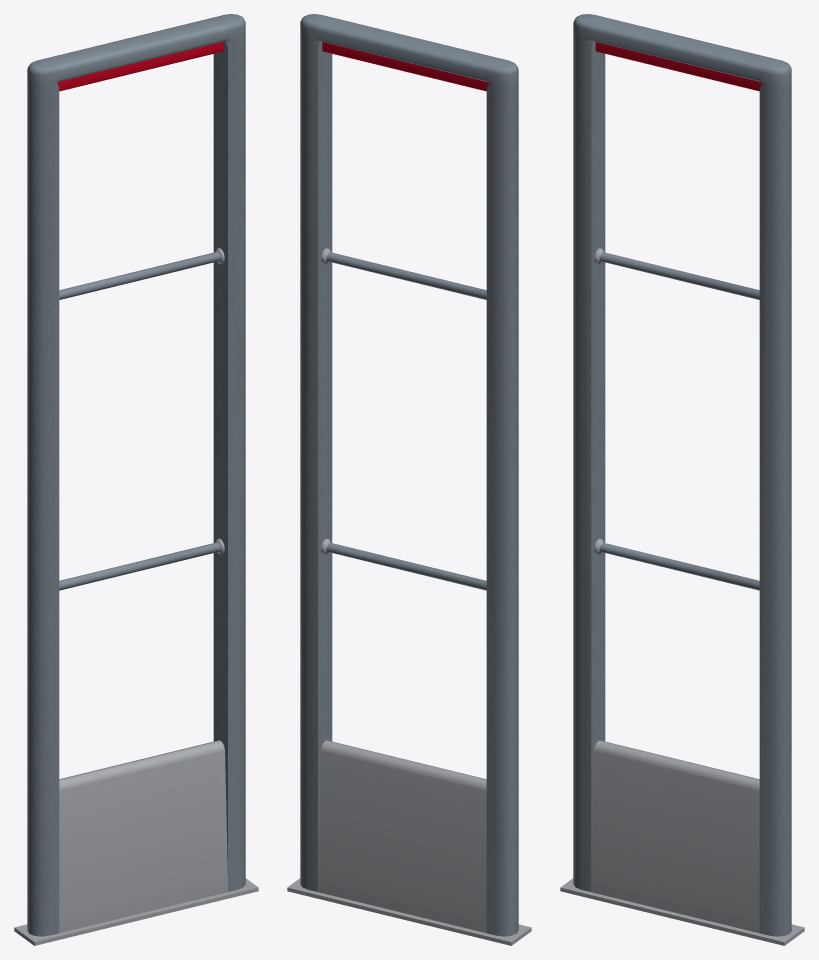
File: Antitheft.fbx
3 views of the same model, side by side, from view 1: azimuth 30°, elevation 25°; view 2: azimuth 150°, elevation 25°; view 3: azimuth 330°, elevation 25° (orthographic).
Parts seen in each view (by area): view 1: Antitheft; view 2: Antitheft; view 3: Antitheft.
Part boxes in pixels (<box>): Antitheft: <box>14,14,258,945</box>; Antitheft: <box>287,14,531,945</box>; Antitheft: <box>560,14,804,945</box>.
Bounding box in the file's own units: 52.55 × 195 × 8.21.
4 materials, 3 textured.
